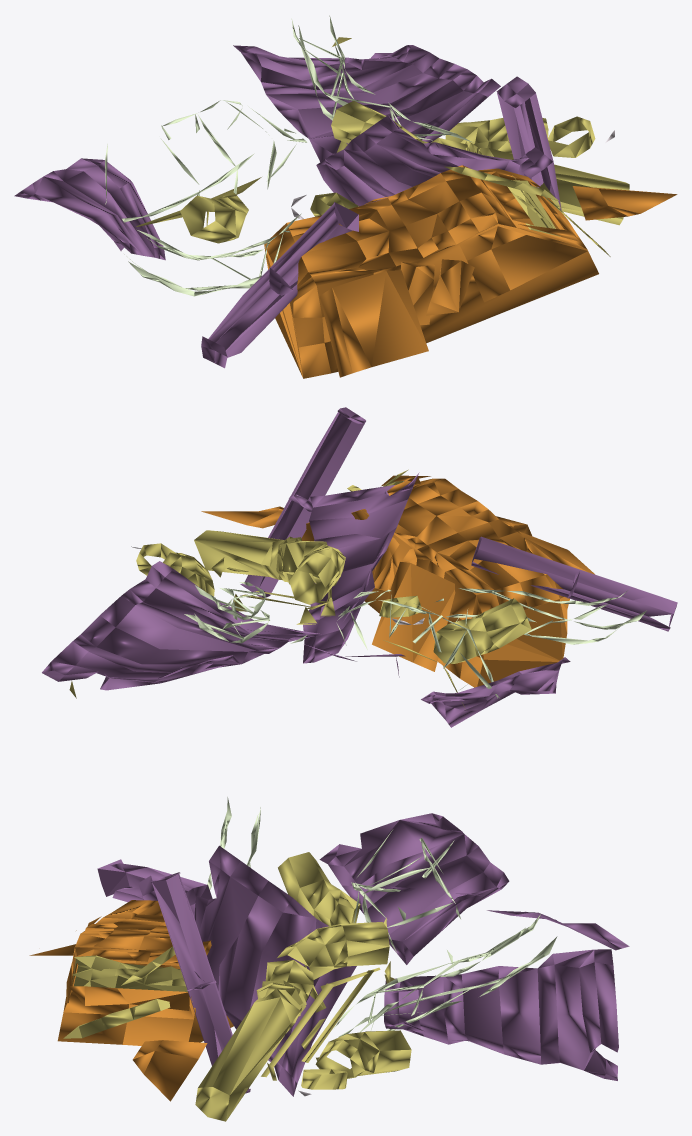
File: debris_a_lod4.glb
The picture shows the model from 3 angles, top to bottom: view 1: azimuth 30°, elevation 25°; view 2: azimuth 150°, elevation 25°; view 3: azimuth 270°, elevation 25°; orthographic projection. The views are drawn at different scales.
Bounding box in the file's own units: 21.51 × 8.95 × 23.08.
